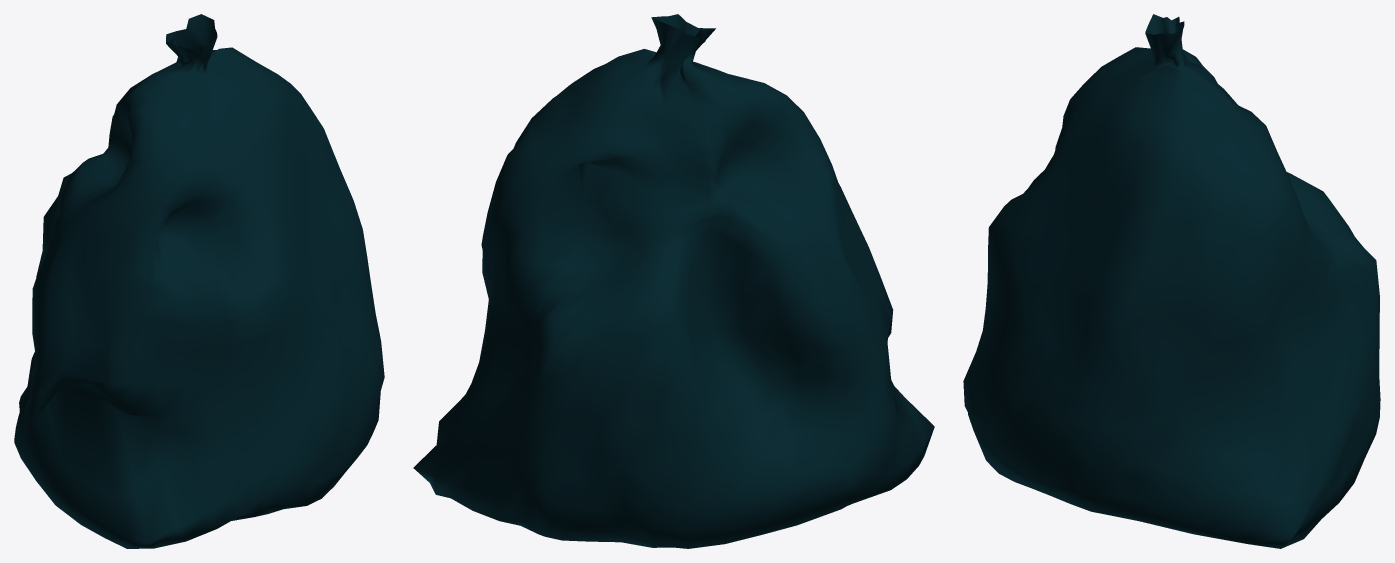
File: sacchetto_nero_no_light.fbx
3 views of the same model, side by side, from view 1: azimuth 30°, elevation 25°; view 2: azimuth 150°, elevation 25°; view 3: azimuth 270°, elevation 25° (orthographic). The views are drawn at different scales.
Parts seen in each view (by area): view 1: sacchetto_alto; view 2: sacchetto_alto; view 3: sacchetto_alto.
Boxes of the visible parts, x1,y1,x2,y2 form: sacchetto_alto: (14, 14, 384, 548); sacchetto_alto: (413, 14, 934, 548); sacchetto_alto: (963, 14, 1380, 548).
Size of the model in its own units: 38.87 by 44.98 by 37.66.
